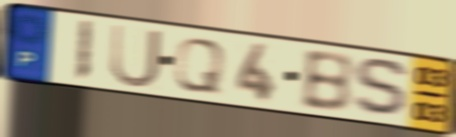4: (234, 40, 278, 105)
B: (299, 50, 356, 115)
I: (72, 18, 96, 85)
Q: (171, 36, 228, 96)
S: (350, 56, 415, 120)
U: (108, 22, 164, 91)
